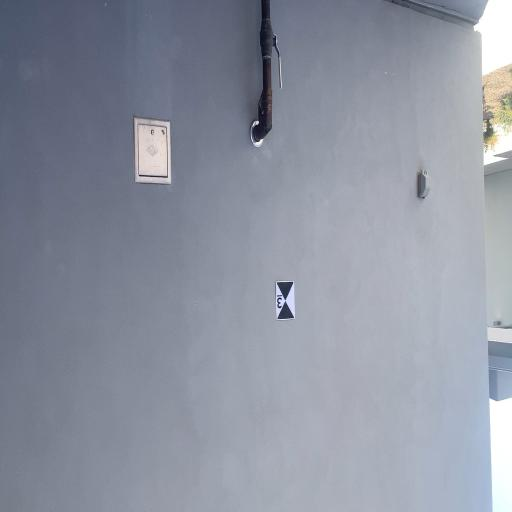target3: (275, 280, 295, 322)
